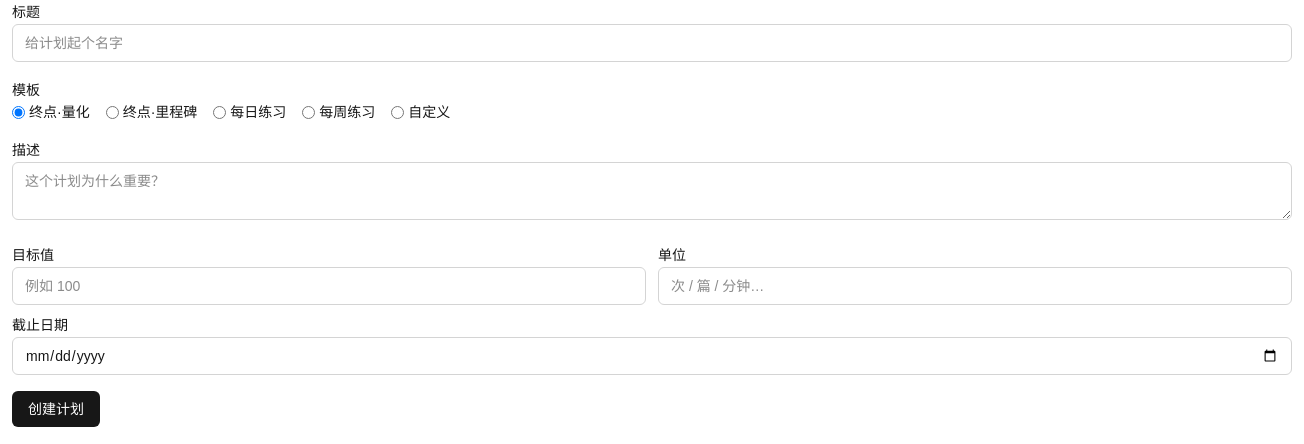
Test case: PlanForm › daily 模板不显示目标/截止/周次数
Step 1. Click the radio button labelled "每日练习" → x=220, y=112, box [213, 106, 226, 118]
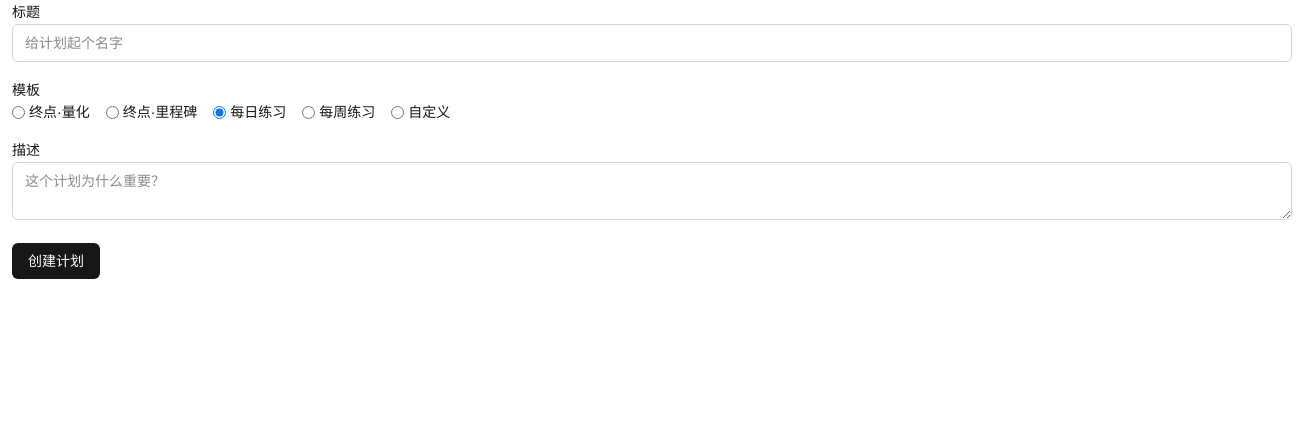
Check: the label labelled "目标值" is gone
Check: the label labelled "截止日期" is gone
